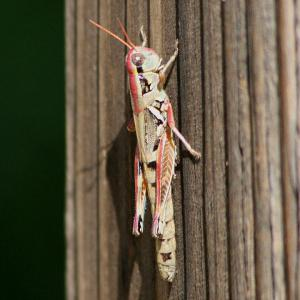locust: (86, 14, 215, 294)
